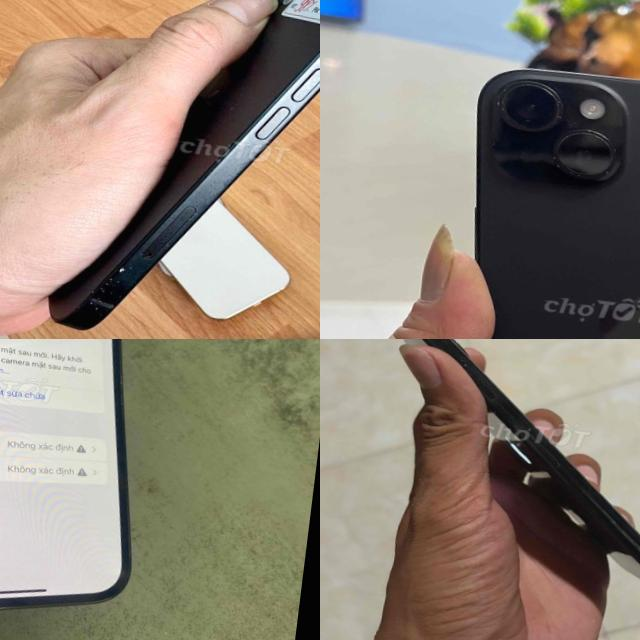gen_11: (403, 339, 640, 578)
gen_12_13: (0, 339, 195, 640)
gen_15: (402, 39, 640, 339)
gen_16: (50, 0, 320, 328)
